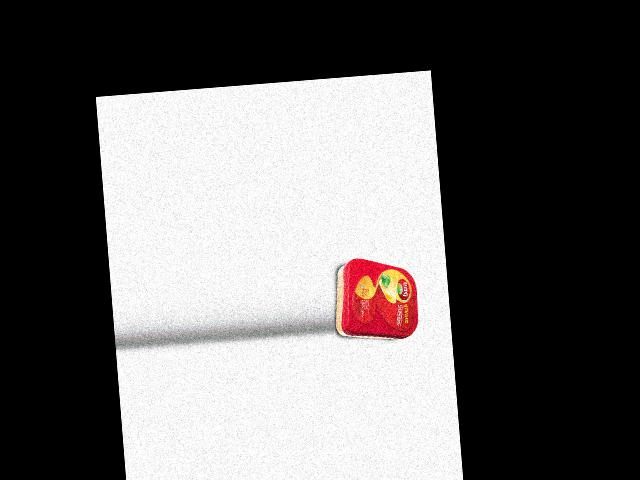cheese: (330, 253, 420, 344)
